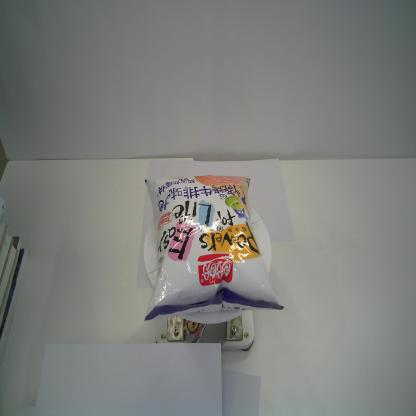Puffed Food: (141, 174, 285, 322)
